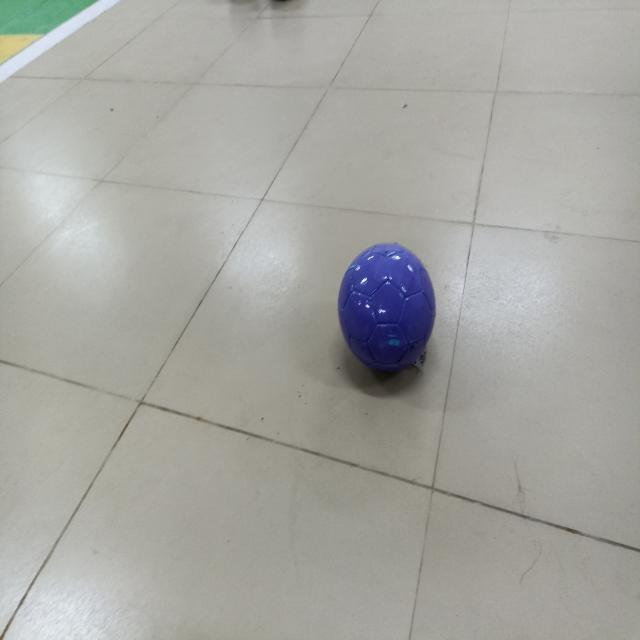purple_ball: (327, 233, 444, 394)
